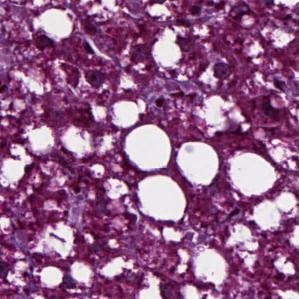steatosis: (122, 119, 176, 172)
